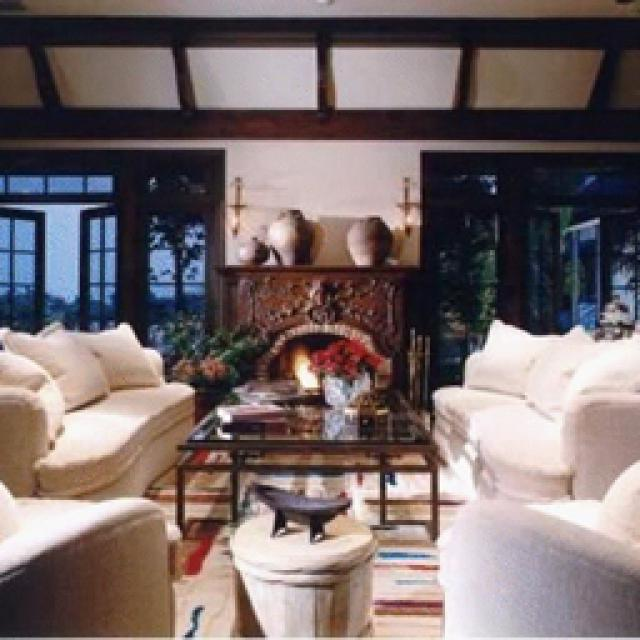2001: (428, 155, 638, 380), (5, 152, 225, 332), (148, 168, 212, 325)
armchair crop: (442, 460, 640, 632), (8, 480, 188, 630)
books crop: (218, 402, 298, 428)
bouquet: (315, 335, 390, 415)
cabinet door: (570, 210, 640, 325)
candle holder: (402, 175, 415, 235), (232, 172, 245, 232)
ceiling beam: (5, 0, 640, 138)
decoration -X: (250, 480, 352, 538)
door bars: (2, 205, 50, 330), (82, 200, 122, 330)
door handle: (5, 190, 125, 335)
fire place: (228, 262, 408, 388)
large bowl: (238, 372, 298, 402)
ottoman: (228, 508, 385, 635)
pillow occluded: (8, 328, 110, 408), (525, 328, 602, 420), (2, 350, 72, 448), (462, 320, 542, 395), (80, 322, 165, 392)
small table part: (180, 385, 442, 535), (175, 402, 448, 540)
sofa bed: (432, 315, 640, 498), (5, 318, 200, 498)
vase -X: (270, 208, 318, 260), (350, 218, 395, 262), (602, 290, 638, 335), (240, 235, 272, 262)
